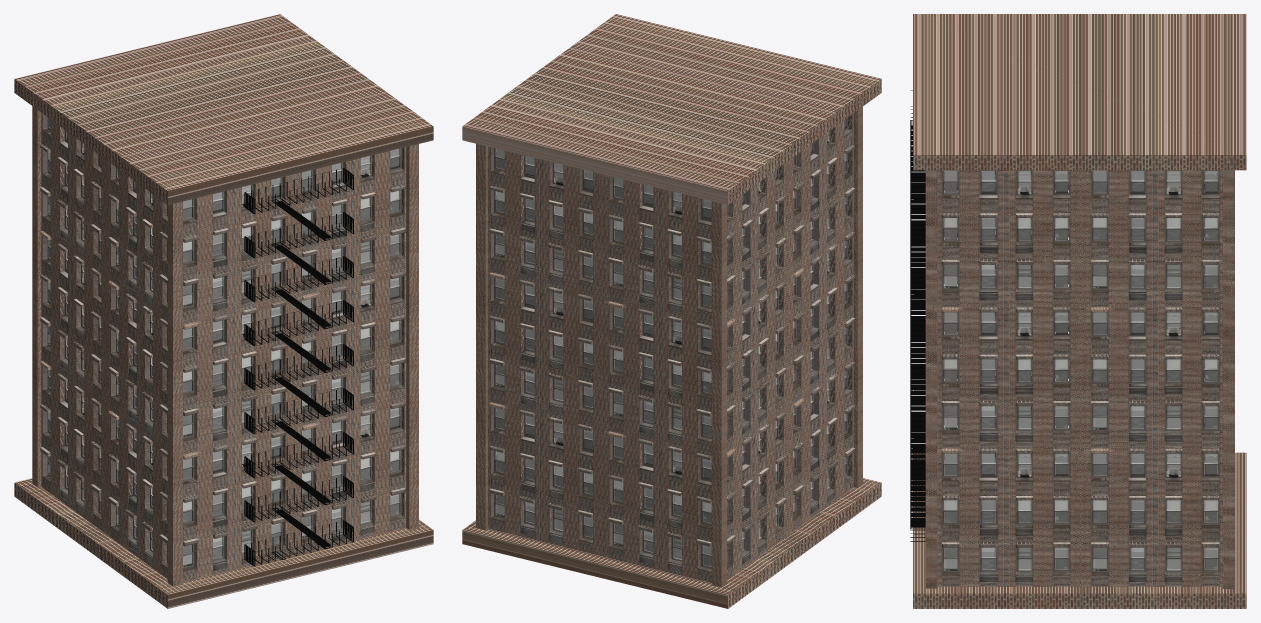
File: building_02.glb
3 renders of one model, left to right at view 1: azimuth 30°, elevation 25°; view 2: azimuth 150°, elevation 25°; view 3: azimuth 270°, elevation 25°, orthographic. The views are drawn at different scales.
Visible parts, largest first — view 1: Object_6, Object_11, Object_4, Object_10, Object_9; view 2: Object_6, Object_11, Object_9, Object_10; view 3: Object_6, Object_11, Object_9, Object_10, Object_4.
Boxes of the visible parts, x1,y1,x2,y2 form: Object_6: (40,113,406,582); Object_11: (14,14,433,608); Object_4: (244,168,353,566); Object_10: (32,106,418,586); Object_9: (49,118,399,565); Object_6: (488,113,854,582); Object_11: (462,14,881,608); Object_9: (496,119,845,566); Object_10: (476,107,862,587); Object_6: (937,170,1222,586); Object_11: (913,14,1246,608); Object_9: (944,171,1217,569); Object_10: (925,170,1234,588); Object_4: (910,90,925,541).
Bounding box in the file's own units: 2.14 × 3.21 × 2.16.
5 materials, 4 textured.
